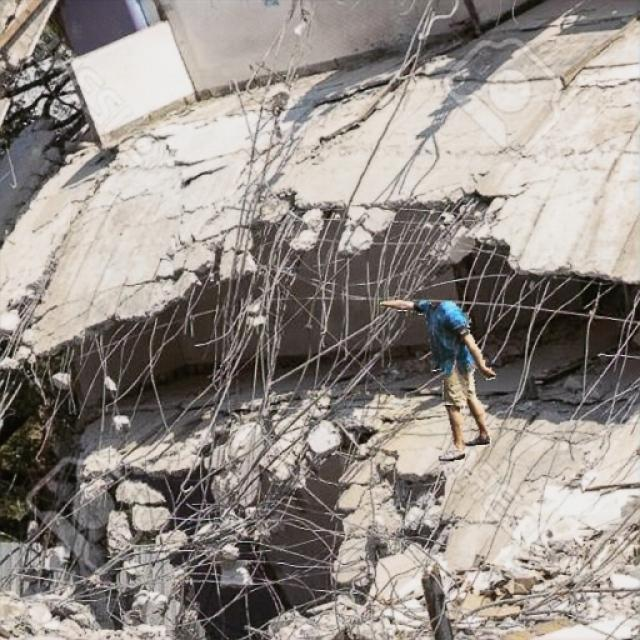Person in Rubble: (380, 300, 495, 460)
